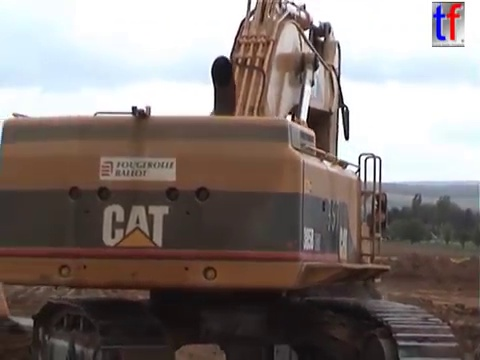excavator: (1, 1, 465, 360)
